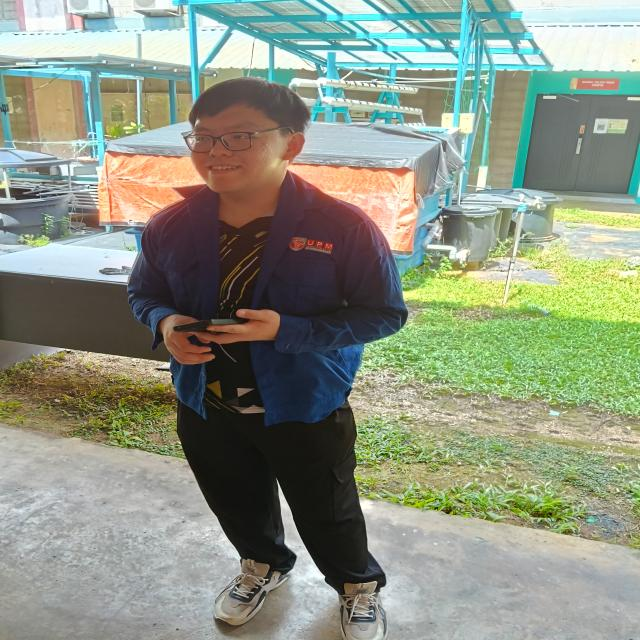person_with_labcoat: (129, 77, 408, 640)
